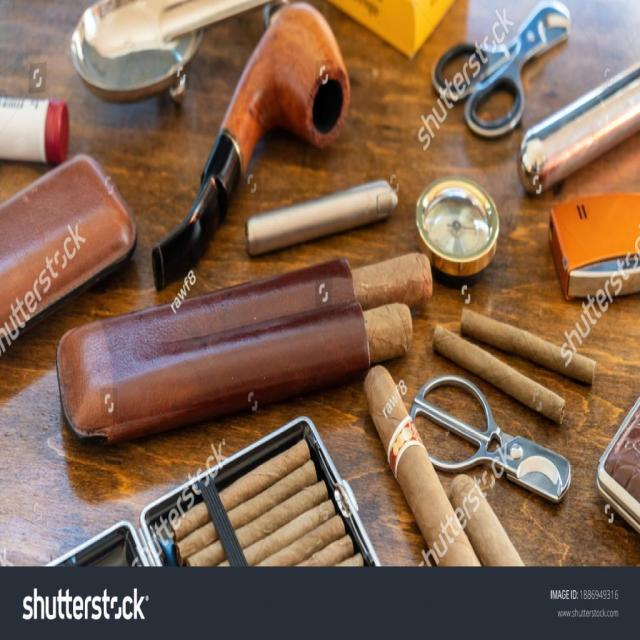smoking: (0, 271, 610, 365), (0, 448, 610, 526), (0, 188, 583, 230)
